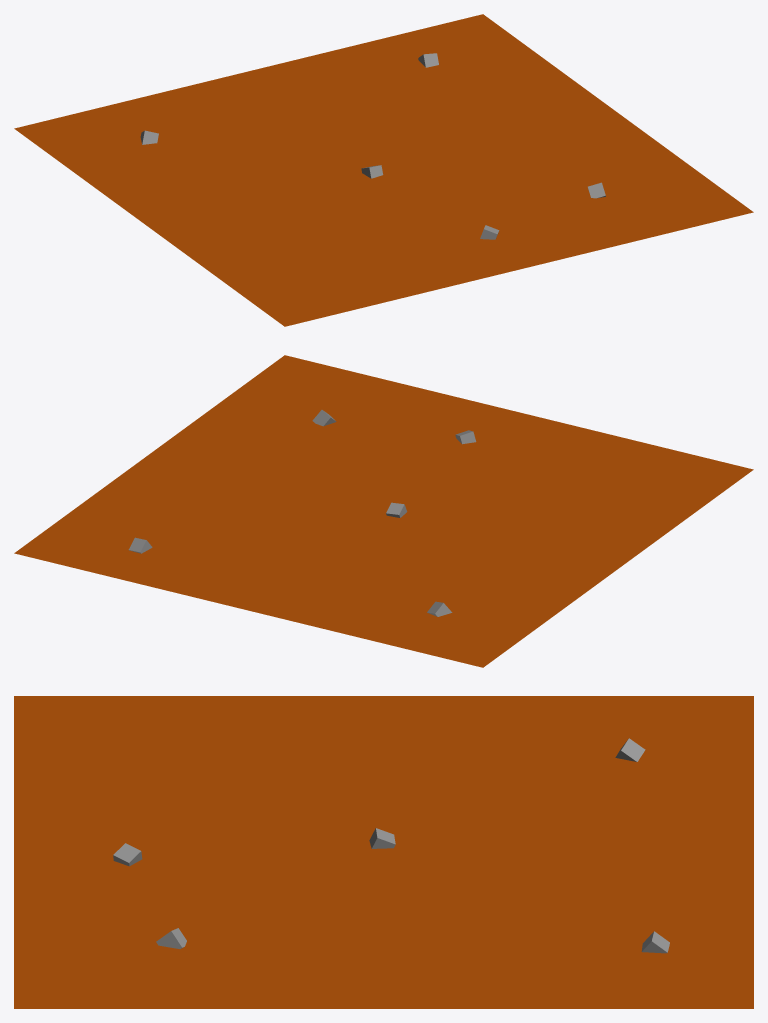
Rendered from sol map clair3.fbx.
3 renders of one model, top to bottom at view 1: azimuth 30°, elevation 25°; view 2: azimuth 150°, elevation 25°; view 3: azimuth 270°, elevation 25°, orthographic. The views are drawn at different scales.
Parts seen in each view (by area): view 1: sol claire 3; view 2: sol claire 3; view 3: sol claire 3.
Boxes of the visible parts, <box> form: sol claire 3: <box>14,14,753,326</box>; sol claire 3: <box>14,355,753,667</box>; sol claire 3: <box>14,696,753,1008</box>.
Size of the model in its own units: 200 by 8.84 by 200.
